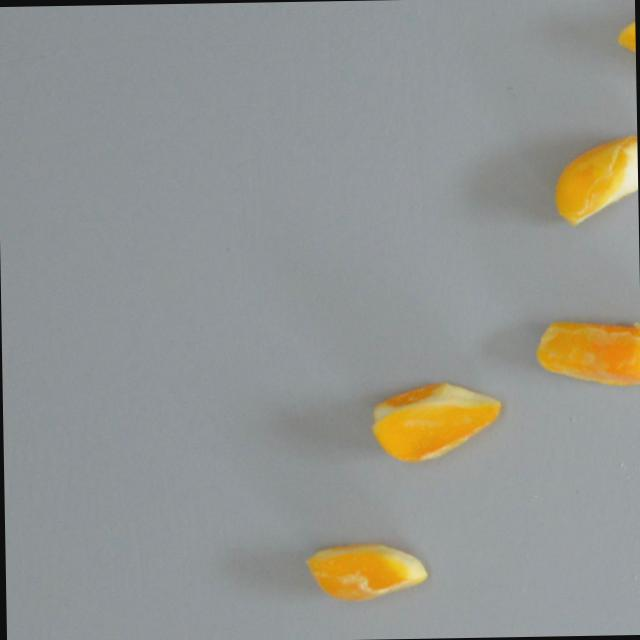pelicula: (367, 380, 502, 463), (549, 131, 638, 227), (302, 538, 427, 603), (532, 315, 640, 388), (611, 11, 636, 83)
